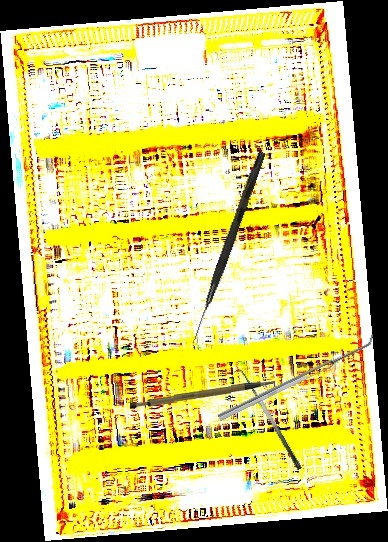Hook Surgical: (191, 150, 266, 342)
Scalpel Handle: (129, 379, 276, 412)
Spatula Surgical: (214, 331, 378, 422), (232, 364, 303, 476)
